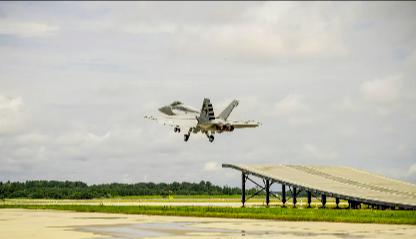F15: (143, 96, 263, 142)
